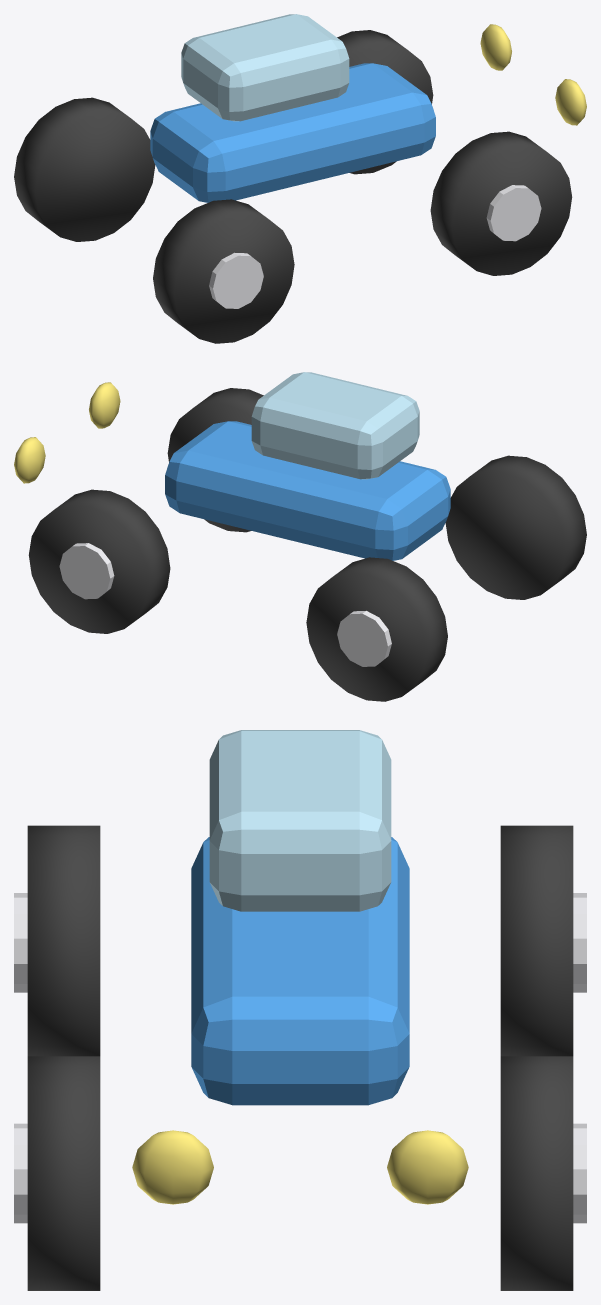
Rendered from araba.glb.
The picture shows the model from 3 angles, top to bottom: view 1: azimuth 30°, elevation 25°; view 2: azimuth 150°, elevation 25°; view 3: azimuth 270°, elevation 25°; orthographic projection. The views are drawn at different scales.
Parts seen in each view (by area): view 1: Araba; view 2: Araba; view 3: Araba.
Boxes of the visible parts, box(x1,y1,x2,y2) form: Araba: box(14, 14, 586, 343); Araba: box(14, 372, 586, 701); Araba: box(14, 730, 586, 1290).
Bounding box in the file's own units: 0.95 × 0.4396 × 0.6154.
